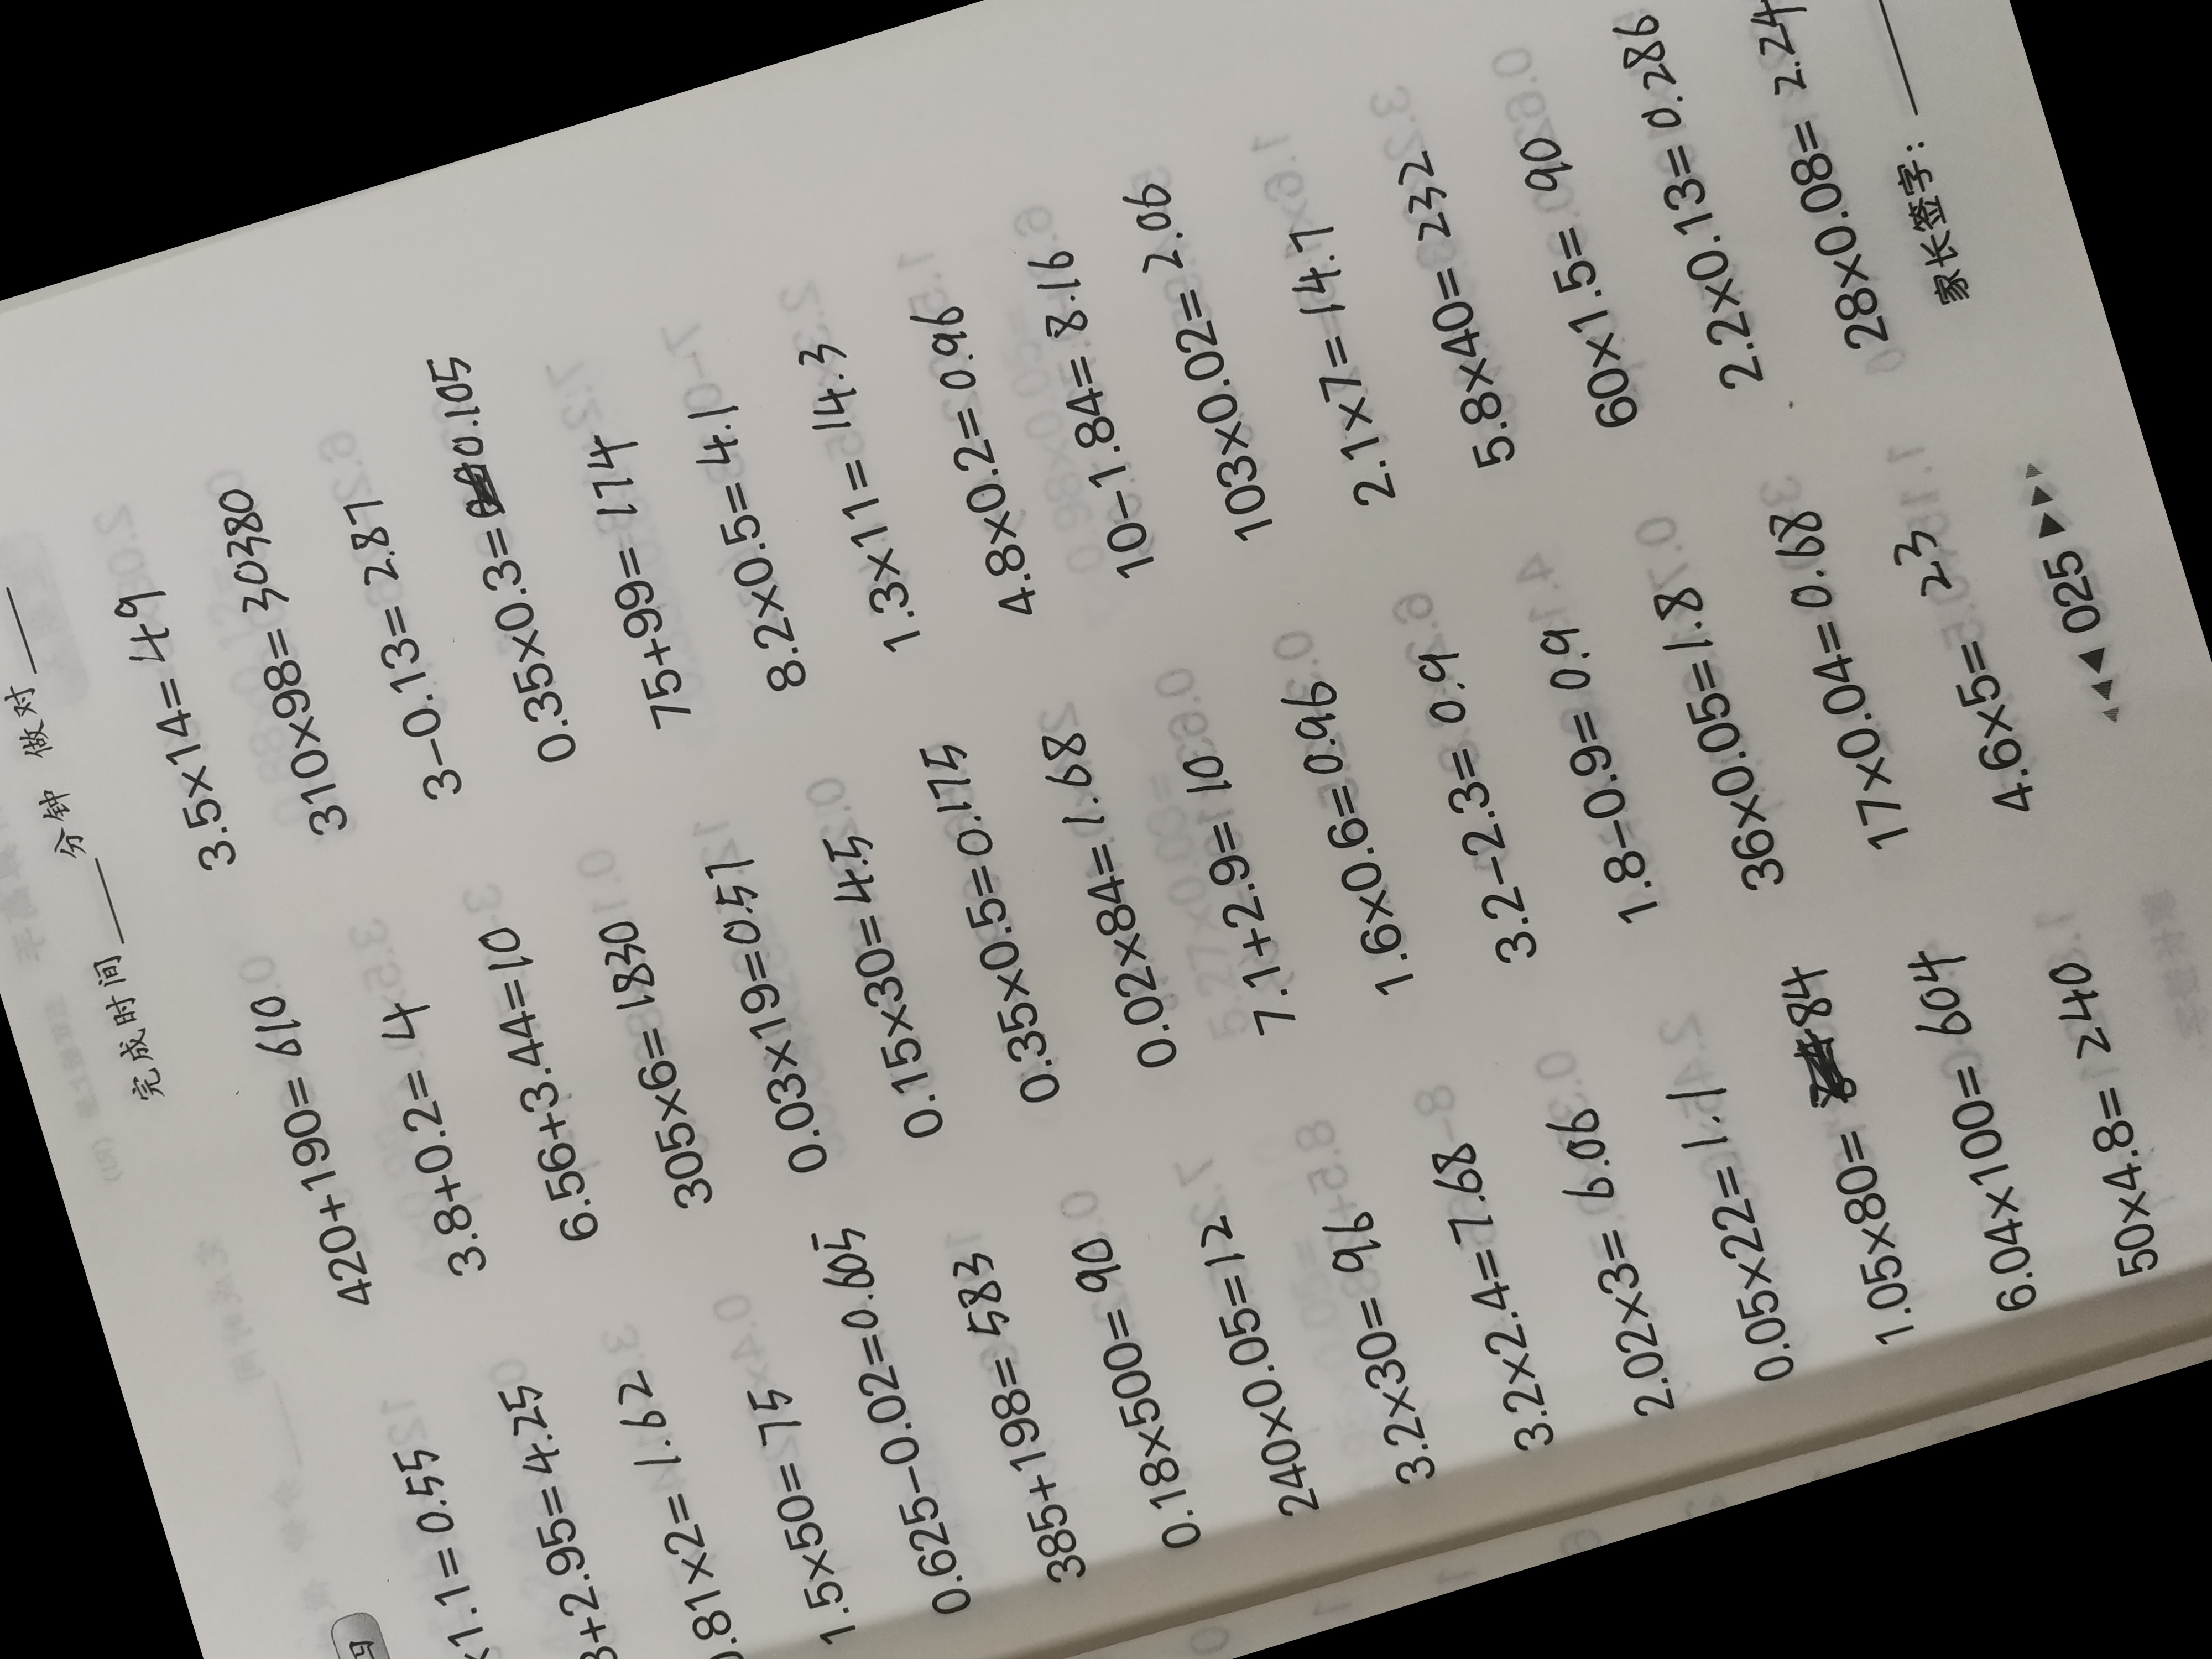equation: (371, 1267, 949, 1455), (1374, 96, 1911, 277), (127, 373, 664, 549), (1562, 819, 2099, 992), (127, 286, 653, 460), (946, 821, 1468, 993), (1367, 7, 1878, 174), (260, 753, 772, 917), (514, 1434, 1019, 1600), (773, 188, 1268, 356), (951, 732, 1440, 894), (320, 831, 808, 992), (1601, 730, 2080, 889), (1097, 1166, 1569, 1326), (1017, 906, 1491, 1065), (401, 1009, 871, 1166), (1503, 275, 1972, 432), (845, 282, 1312, 439), (1534, 368, 2005, 523), (928, 554, 1392, 711), (1151, 1333, 1616, 1488), (1052, 999, 1512, 1155), (1707, 1070, 2168, 1223), (523, 1347, 981, 1500), (1082, 1082, 1540, 1236), (899, 460, 1357, 613), (256, 566, 712, 720), (373, 922, 827, 1075), (878, 378, 1332, 532), (1498, 186, 1952, 340), (458, 1087, 909, 1241), (1594, 552, 2041, 704), (820, 94, 1263, 247), (977, 645, 1421, 795), (1613, 643, 2057, 791), (1714, 986, 2155, 1131), (333, 648, 759, 795), (599, 1516, 1033, 1659), (495, 1180, 921, 1323), (261, 477, 681, 619), (1768, 1159, 2191, 1298), (1604, 462, 2013, 601), (1723, 897, 2132, 1035), (1197, 1255, 1585, 1385), (1413, 0, 1864, 63)
